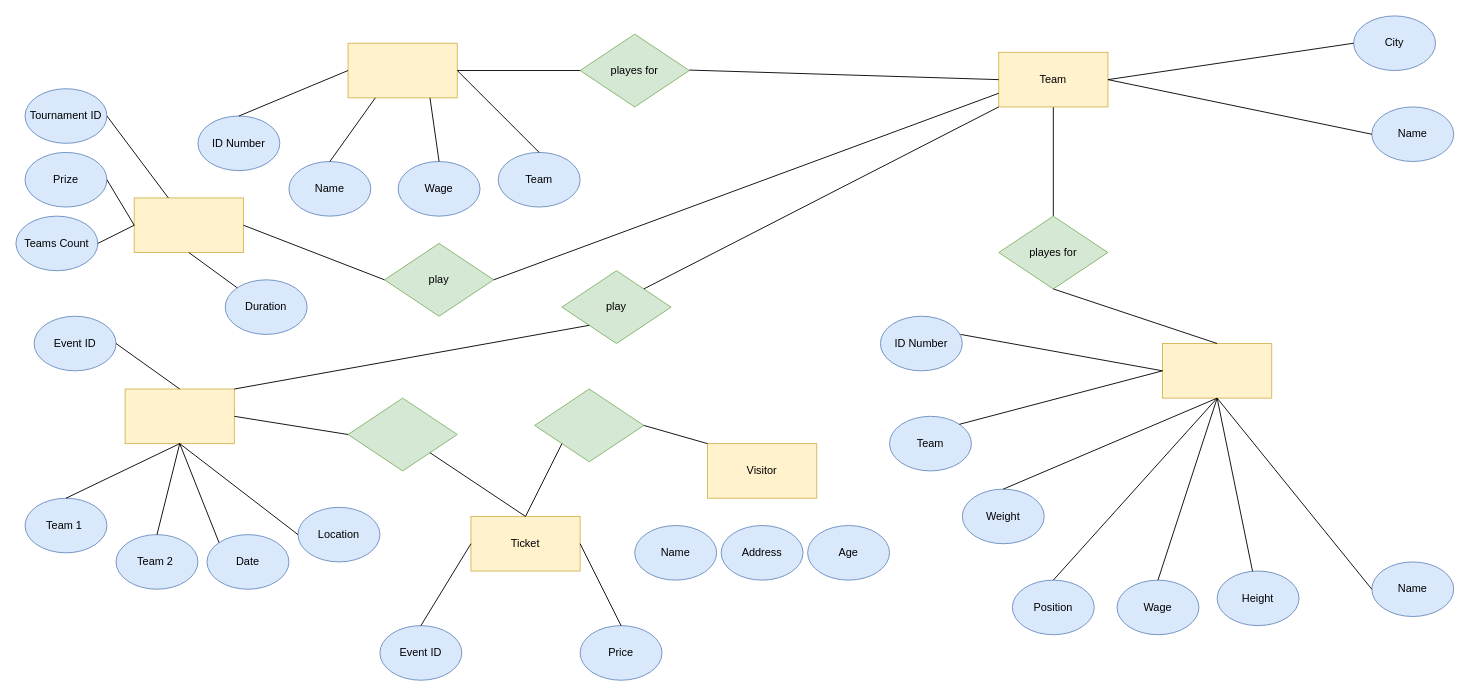
Image size: 1470x696. Some labels were removed from this diagram. Here are the shapes that lost their labels. From the top down, the centre of each, then its label:
(402,70): Manager
(188,225): Tournament
(1217,370): Player
(179,416): Match
(402,434): of
(589,425): buys
